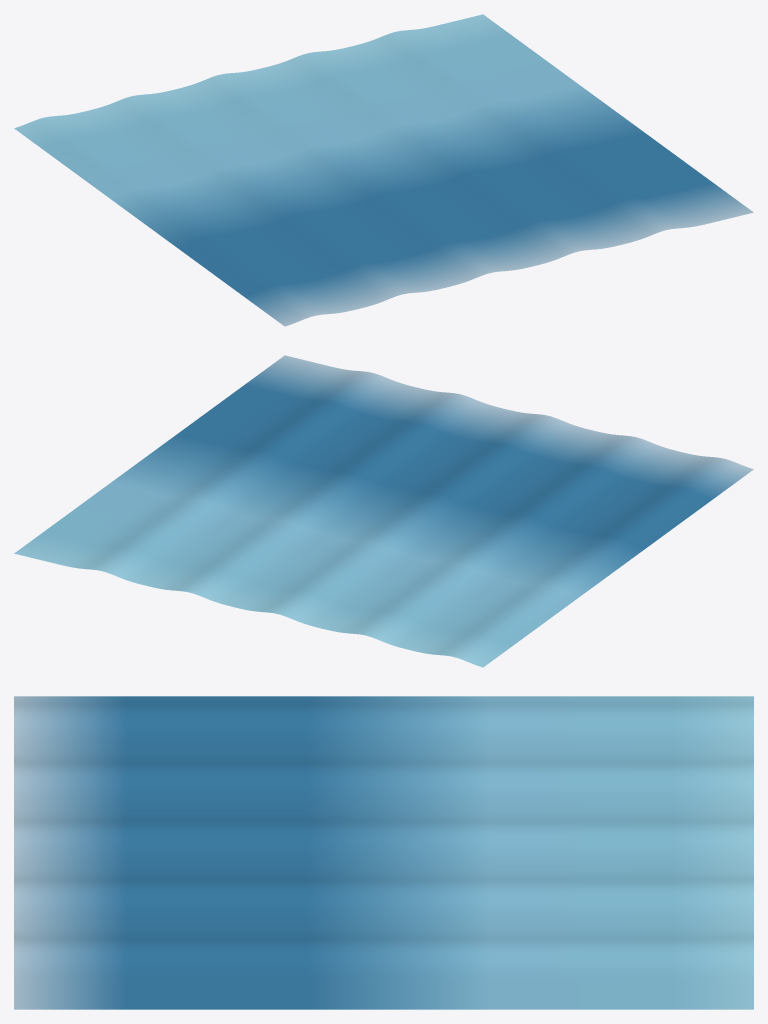
The model's file is SM_Water.fbx.
The picture shows the model from 3 angles, top to bottom: view 1: azimuth 30°, elevation 25°; view 2: azimuth 150°, elevation 25°; view 3: azimuth 270°, elevation 25°; orthographic projection. The views are drawn at different scales.
Parts seen in each view (by area): view 1: Plane; view 2: Plane; view 3: Plane.
Boxes of the visible parts, box(x1,y1,x2,y2) form: Plane: box(14, 14, 753, 326); Plane: box(14, 355, 753, 667); Plane: box(14, 696, 753, 1009).
Bounding box in the file's own units: 16 × 0.1264 × 16.
